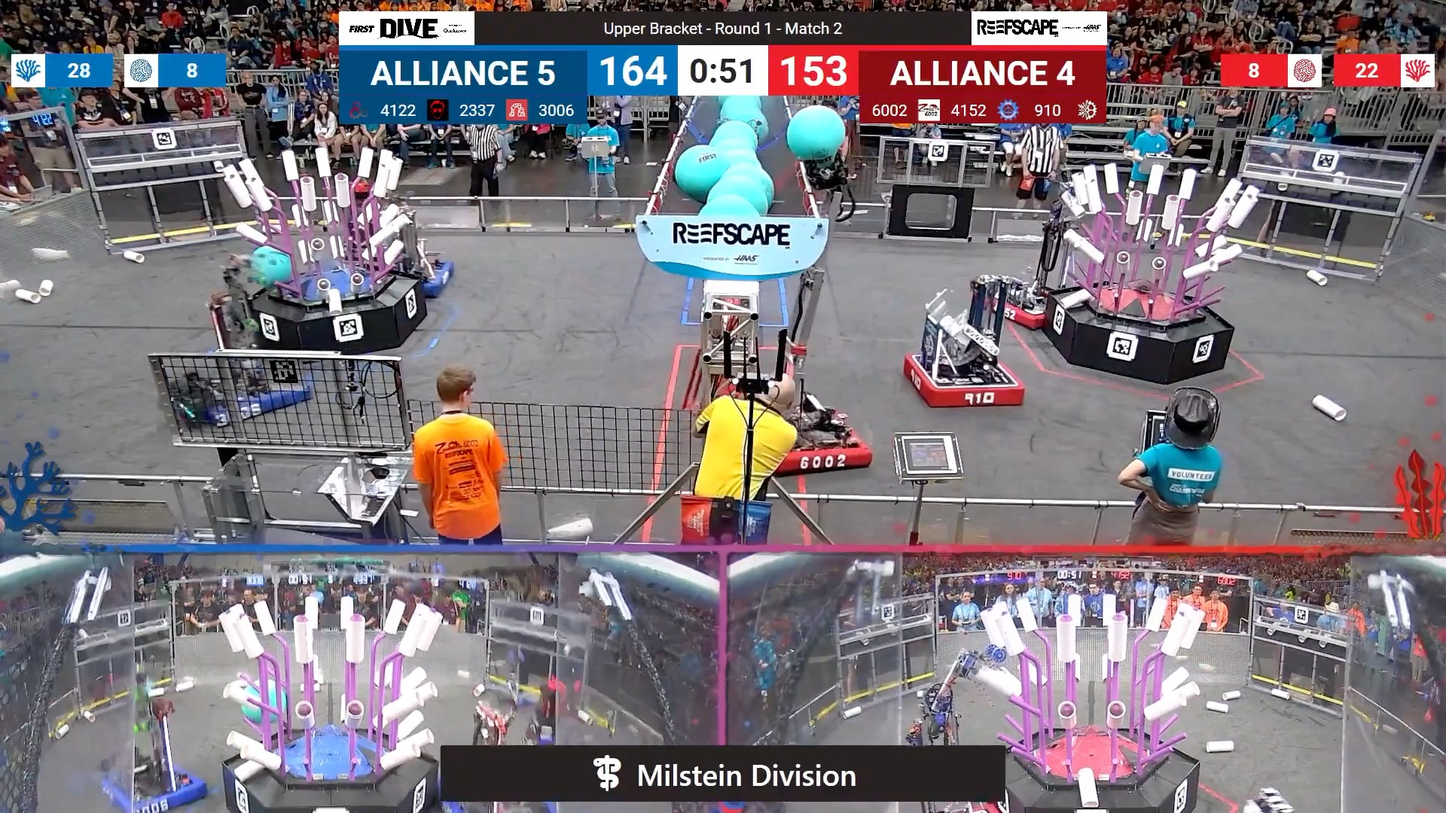bumpers: (166, 363, 319, 431), (746, 407, 876, 479), (898, 352, 1033, 416), (93, 762, 217, 812), (987, 282, 1060, 332), (383, 251, 462, 297)
